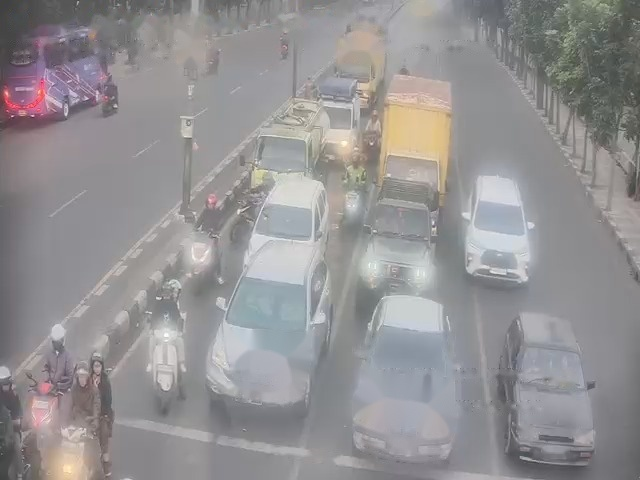Bis: (4, 33, 115, 121)
Mobil: (220, 242, 328, 409), (360, 294, 462, 463), (501, 308, 598, 464), (365, 175, 437, 290), (467, 166, 533, 285), (248, 168, 325, 255)
Motor: (146, 326, 183, 408), (59, 426, 86, 480), (190, 234, 214, 278), (28, 390, 48, 434), (231, 198, 250, 231), (342, 191, 361, 223), (366, 132, 374, 160), (102, 94, 111, 114)
Truk: (383, 54, 456, 195), (252, 93, 326, 188)
